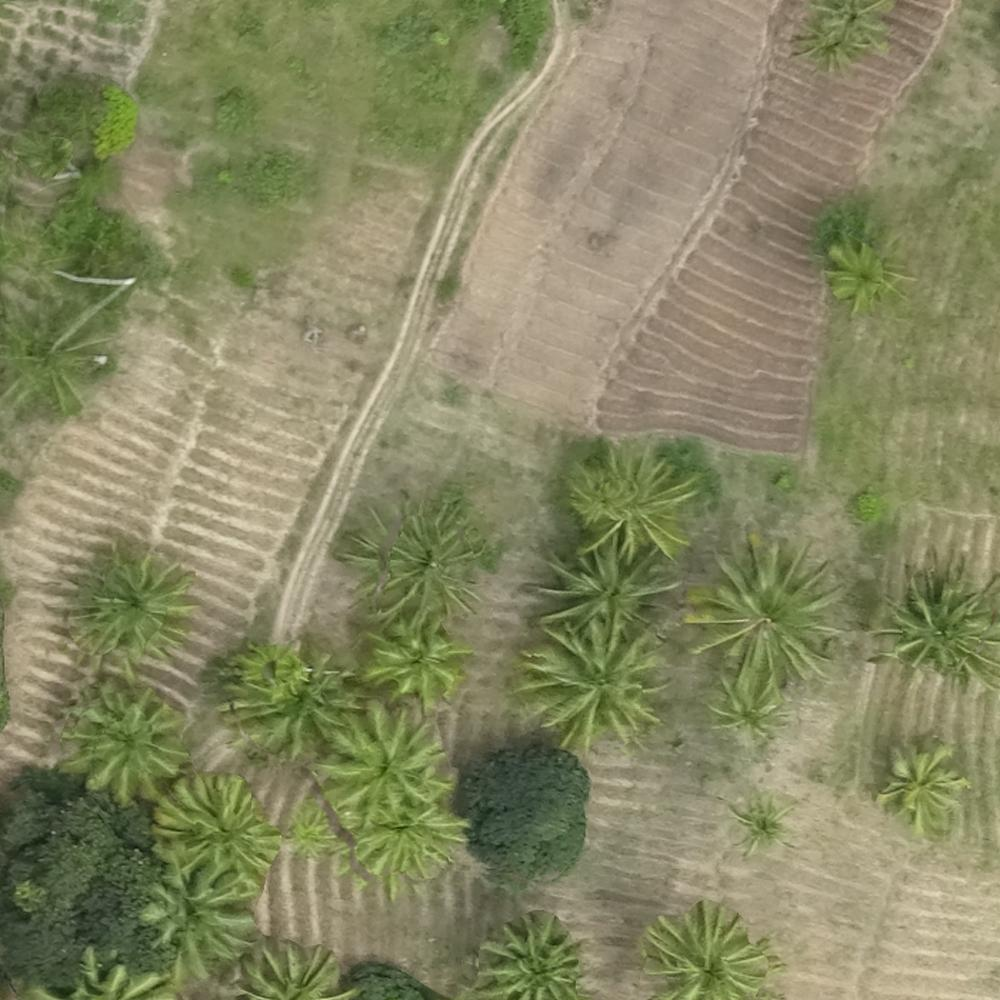Palm: (696, 547, 836, 674), (525, 630, 660, 739), (321, 705, 446, 819), (568, 448, 692, 555), (534, 542, 665, 642), (890, 571, 1000, 684), (157, 775, 271, 878), (647, 909, 771, 1000), (79, 686, 180, 795), (138, 872, 244, 974), (377, 506, 477, 613), (81, 551, 183, 648), (364, 613, 464, 705), (355, 801, 458, 883), (480, 916, 579, 998), (887, 739, 966, 827), (828, 236, 907, 306), (710, 672, 791, 734), (795, 18, 868, 77), (816, 1, 893, 50), (730, 793, 791, 848)
